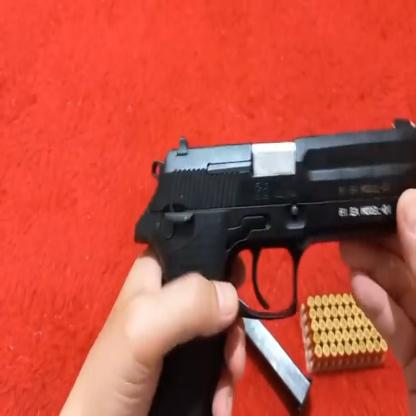handgun: (150, 116, 416, 414)
